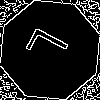L: (25, 25, 79, 71)
